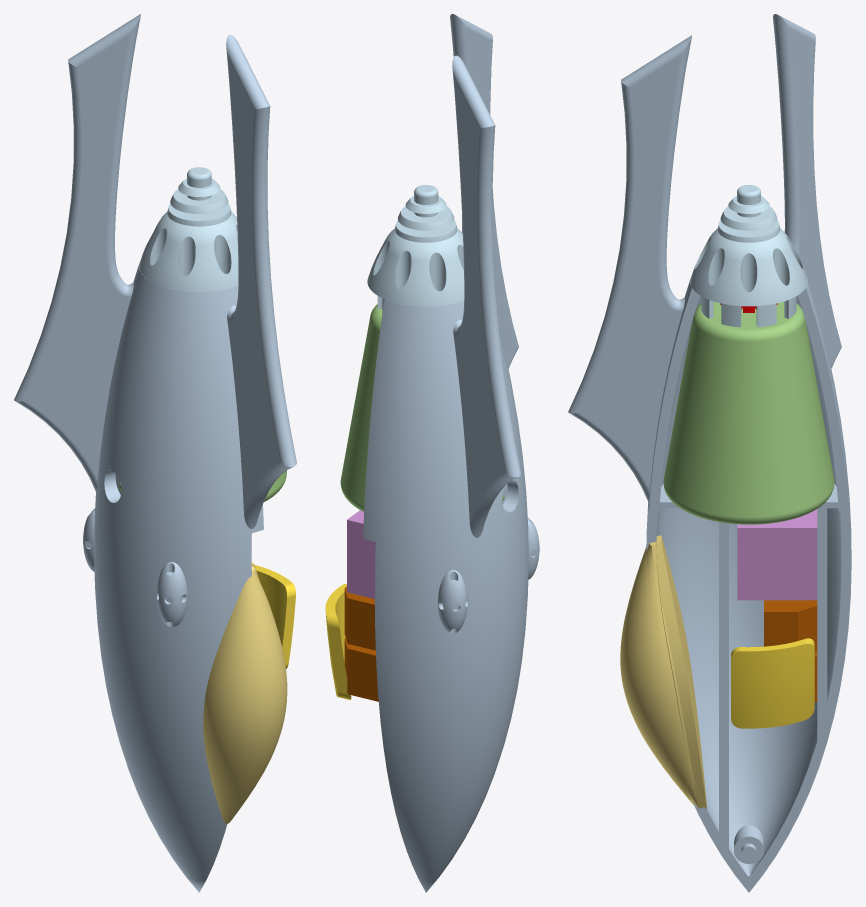
Rendered from stardustcutaway.gltf.
3 renders of one model, left to right at view 1: azimuth 30°, elevation 25°; view 2: azimuth 150°, elevation 25°; view 3: azimuth 270°, elevation 25°, orthographic. The views are drawn at different scales.
Visible parts, largest first — view 1: mesh151_meshnode_151, mesh207_meshnode_207, mesh17_meshnode_17, mesh179_meshnode_179, mesh171_meshnode_171, mesh61_meshnode_61, mesh213_meshnode_213, mesh217_meshnode_217, mesh166_meshnode_166, mesh69_meshnode_69, mesh193_meshnode_193, mesh250_meshnode_250 (+5 smaller); view 2: mesh151_meshnode_151, mesh206_meshnode_206, mesh212_meshnode_212, mesh61_meshnode_61, mesh35_meshnode_35, mesh21_meshnode_21 (×2), mesh179_meshnode_179, mesh26_meshnode_26, mesh213_meshnode_213, mesh69_meshnode_69, mesh180_meshnode_180, mesh214_meshnode_214 (+9 smaller); view 3: mesh35_meshnode_35, mesh174_meshnode_174, mesh150_meshnode_150, mesh178_meshnode_178, mesh145_meshnode_145, mesh17_meshnode_17, mesh259_meshnode_259, mesh27_meshnode_27, mesh206_meshnode_206, mesh61_meshnode_61, mesh166_meshnode_166, mesh3_meshnode_3 (+22 smaller).
Boxes of the visible parts, x1,y1,x2,y2 form: mesh151_meshnode_151: (94, 265, 263, 892); mesh207_meshnode_207: (25, 35, 131, 478); mesh17_meshnode_17: (203, 576, 287, 823); mesh179_meshnode_179: (227, 58, 280, 511); mesh171_meshnode_171: (251, 107, 292, 466); mesh61_meshnode_61: (139, 226, 238, 291); mesh213_meshnode_213: (14, 61, 82, 401); mesh217_meshnode_217: (106, 16, 140, 273); mesh166_meshnode_166: (263, 106, 296, 466); mesh69_meshnode_69: (156, 212, 237, 245); mesh193_meshnode_193: (157, 562, 187, 627); mesh250_meshnode_250: (256, 570, 286, 646); mesh151_meshnode_151: (363, 299, 528, 892); mesh206_meshnode_206: (453, 79, 504, 521); mesh212_meshnode_212: (477, 126, 517, 477); mesh61_meshnode_61: (367, 241, 464, 306); mesh35_meshnode_35: (341, 318, 503, 505); mesh21_meshnode_21 (×2): (347, 598, 378, 701); mesh179_meshnode_179: (466, 28, 517, 366); mesh26_meshnode_26: (347, 520, 375, 598); mesh213_meshnode_213: (488, 125, 521, 476); mesh69_meshnode_69: (384, 228, 463, 261); mesh180_meshnode_180: (438, 570, 467, 633); mesh214_meshnode_214: (452, 56, 490, 128); mesh35_meshnode_35: (663, 319, 834, 516); mesh174_meshnode_174: (579, 56, 682, 488); mesh150_meshnode_150: (729, 523, 817, 873); mesh178_meshnode_178: (692, 508, 851, 892); mesh145_meshnode_145: (656, 508, 718, 831); mesh17_meshnode_17: (620, 547, 692, 803); mesh259_meshnode_259: (731, 643, 814, 728); mesh27_meshnode_27: (737, 528, 817, 600); mesh206_meshnode_206: (789, 28, 839, 366); mesh61_meshnode_61: (690, 247, 807, 306); mesh166_meshnode_166: (568, 81, 634, 413); mesh3_meshnode_3: (657, 542, 706, 808).
Bounding box in the file's own units: 0.0543 × 0.1985 × 0.0594.
